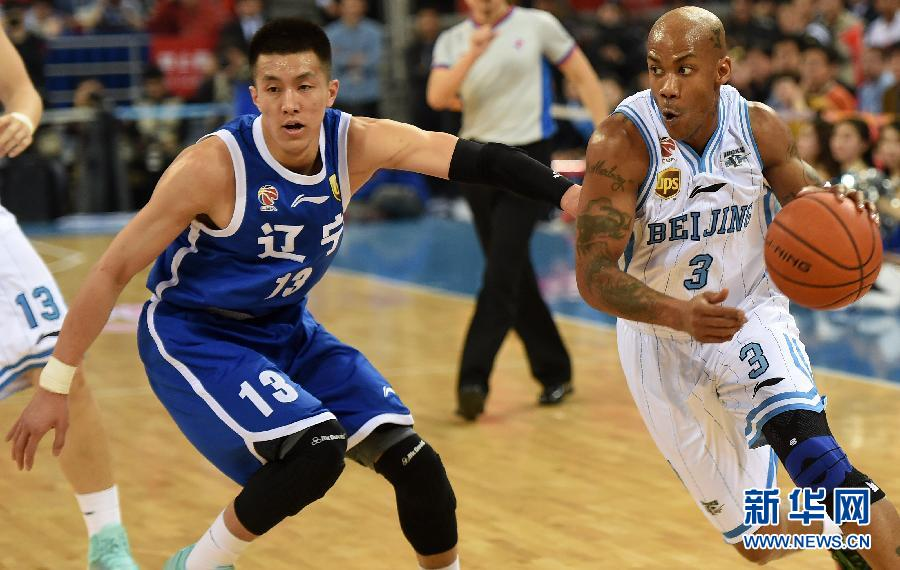ball: (763, 190, 884, 311)
